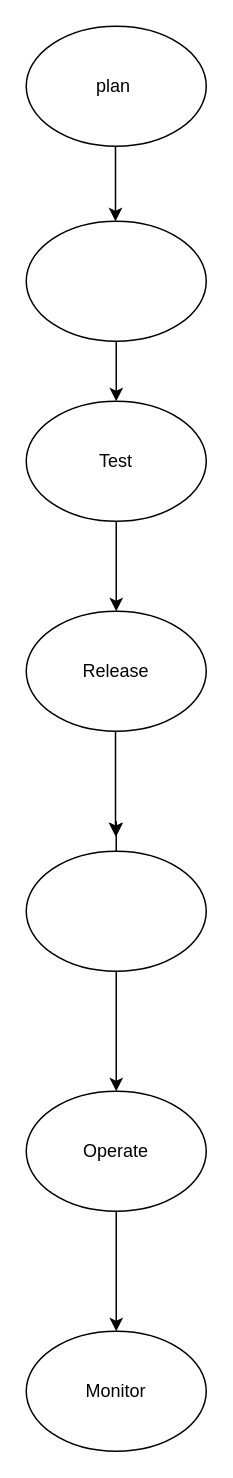
Some shapes in this 233 by 1478 pixel diagram are drawn without their labels. Here are the shapes that lost their labels. From the top down, the centre of each, then its label:
(x=115, y=280): Code
(x=115, y=910): Deploy
